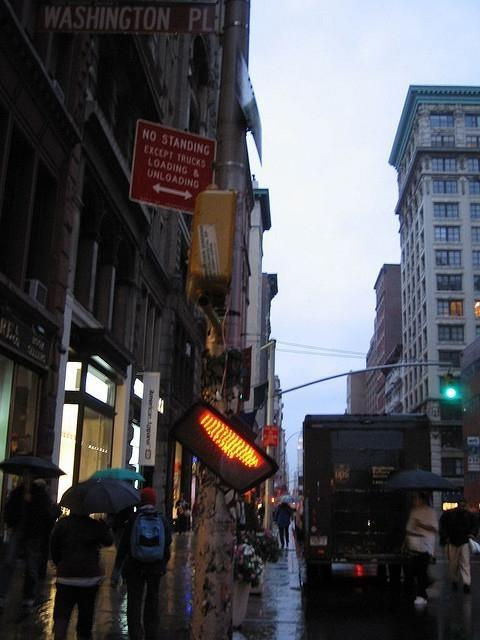bus: (294, 412, 433, 586)
truck: (286, 412, 432, 586)
